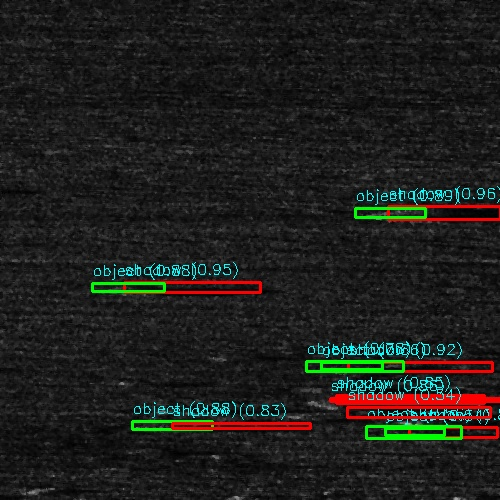rock: (352, 205, 425, 218), (341, 407, 424, 418), (140, 424, 213, 429), (335, 364, 376, 371), (383, 430, 436, 435), (297, 383, 350, 388), (102, 285, 143, 290)
shadow: (389, 205, 500, 218), (383, 407, 500, 418), (356, 364, 500, 371), (340, 396, 487, 401), (177, 424, 313, 429), (123, 285, 253, 290), (324, 383, 432, 388), (0, 185, 96, 190), (410, 430, 500, 435)
